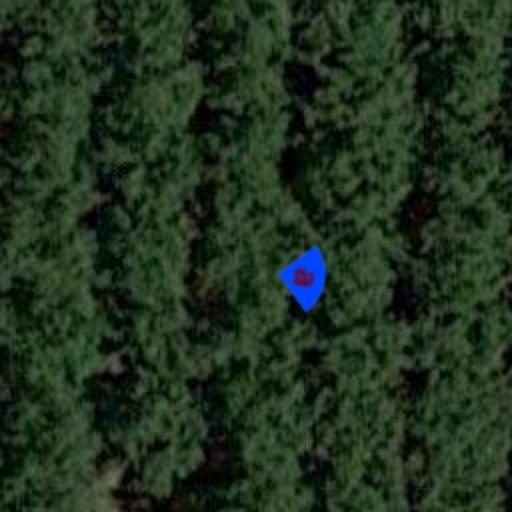quarter_circle: (268, 240, 344, 316)
